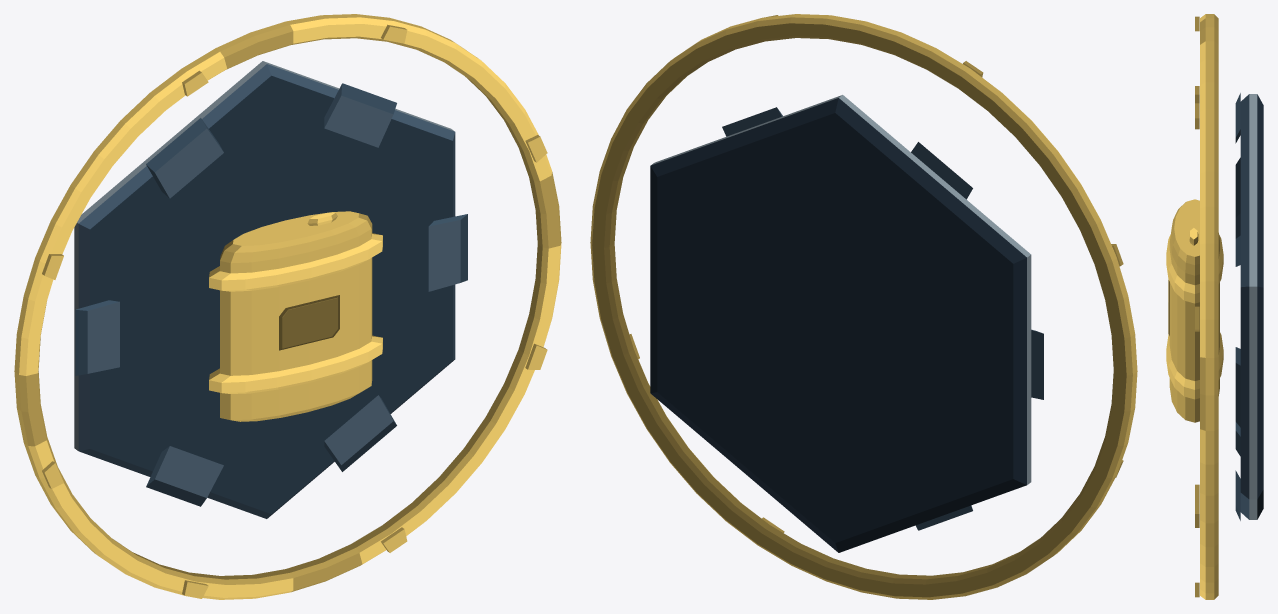
Rendered from fuel-pickup.glb.
3 renders of one model, left to right at view 1: azimuth 30°, elevation 25°; view 2: azimuth 150°, elevation 25°; view 3: azimuth 270°, elevation 25°, orthographic. The views are drawn at different scales.
Parts seen in each view (by area): view 1: core, shell, shape; view 2: core, shell; view 3: shell, core, shape.
Boxes of the visible parts, box(x1,y1,x2,y2) form: core: box(74, 61, 467, 518); shell: box(14, 14, 561, 599); shape: box(209, 211, 382, 421); core: box(650, 95, 1043, 552); shell: box(590, 14, 1137, 599); shell: box(1195, 14, 1218, 599); core: box(1235, 93, 1263, 520); shape: box(1166, 199, 1223, 422).
Bounding box in the file's own units: 4.09 × 4.09 × 0.68.
